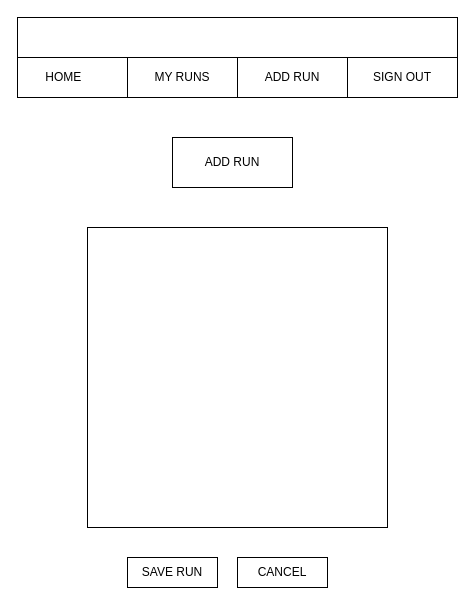
Some shapes in this 475 by 605 pixel diagram are drawn without their labels. The centre of each missing label's shape, as x and y in pixels:
"Date: 9/20/26 Distance: 5.00 miles Time: 00:38.21 Notes:" goes at point 237,377.
"RUNNING TRACKER" goes at point 237,37.
